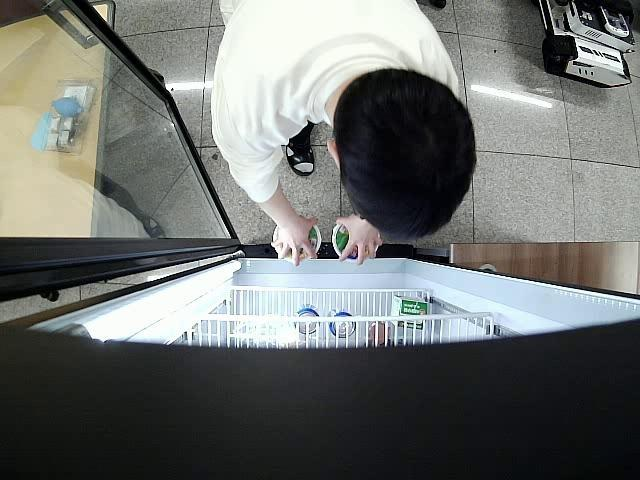09_yukGaeJang: (272, 223, 321, 264), (332, 222, 377, 263)
